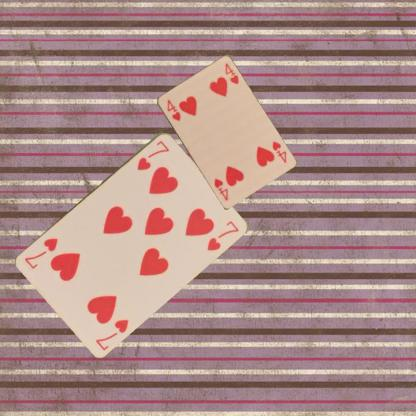4h: (164, 96, 182, 122), (269, 139, 287, 164)
7h: (93, 316, 130, 351), (134, 138, 170, 172)
